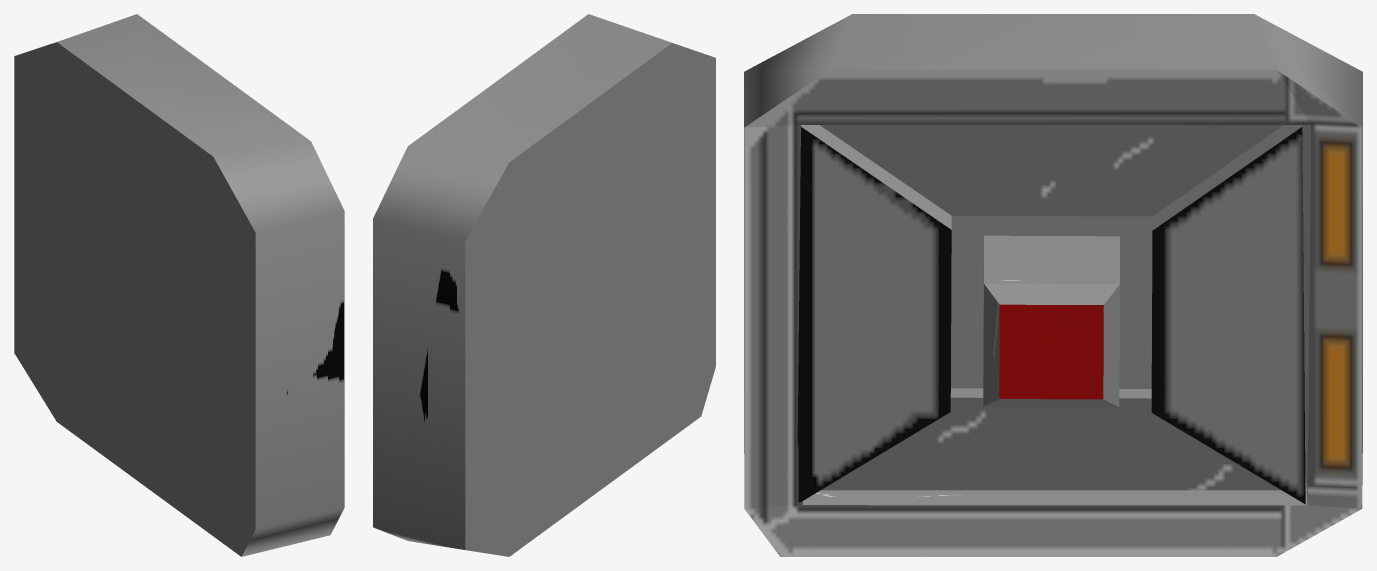
Rendered from Laser_textured.fbx.
3 renders of one model, left to right at view 1: azimuth 30°, elevation 25°; view 2: azimuth 150°, elevation 25°; view 3: azimuth 270°, elevation 25°, orthographic. The views are drawn at different scales.
Parts seen in each view (by area): view 1: LASER; view 2: LASER; view 3: LASER.
Boxes of the visible parts, left/top/right/bottom form: LASER: left=14, top=14, right=344, bottom=556; LASER: left=373, top=14, right=715, bottom=556; LASER: left=744, top=14, right=1362, bottom=556.
Size of the model in its own units: 0.3324 by 0.8828 by 1.02.
1 material, 1 textured.
